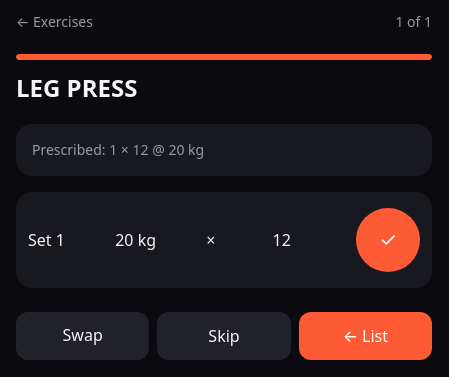
SessionExercise — logging a set › swiping a row left skips it, storing no load/reps
Step 1. Press the mouse on the element with test id "set-row-0" → (224, 240), box [16,192,432,288]
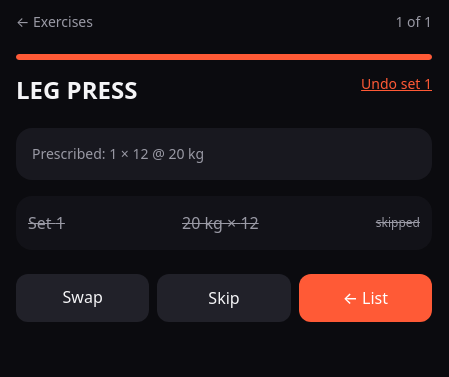
Check: the text "skipped" is shown, box [376,215,420,231]
